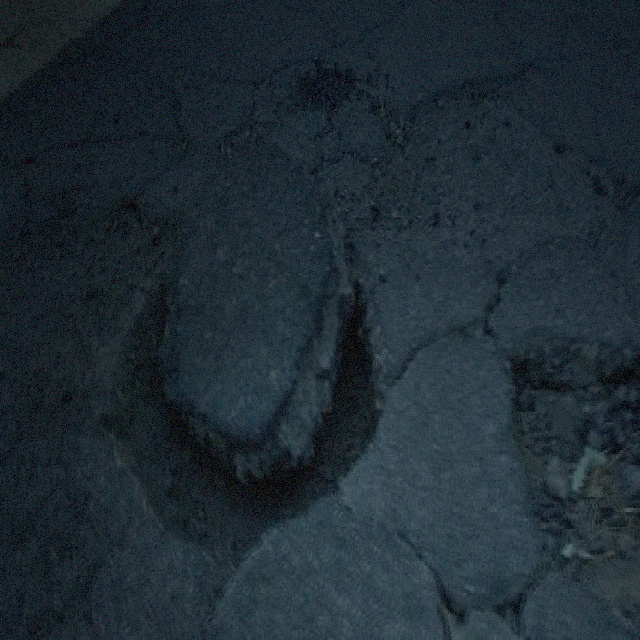pothole: (101, 237, 385, 576), (501, 335, 639, 587)
